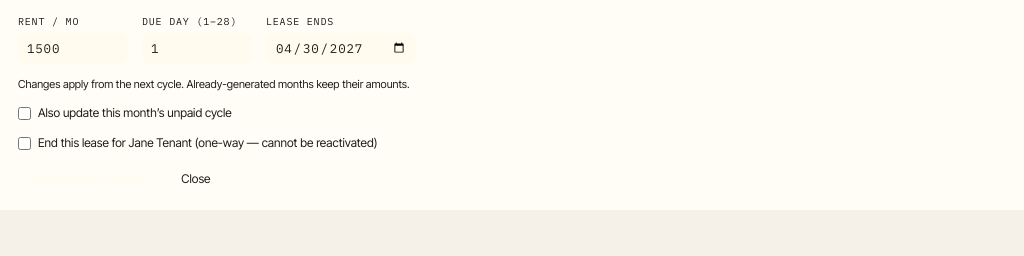
Test: LeaseTermsEditor › edit stage › should stay in edit and show an error when due day is out of range
This screenshot has width=1024, height=256.
Replace the text in the number field with test id "lease-due-day" with "40" at {"x": 197, "y": 48}, box left=142, top=33, right=252, bottom=64
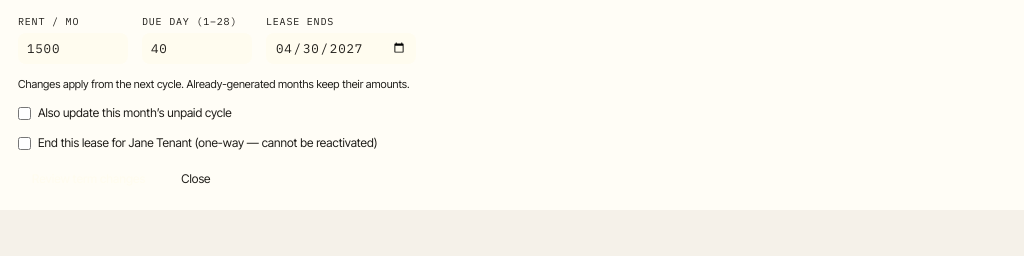
Submit the form with test id "lease-terms-editor"
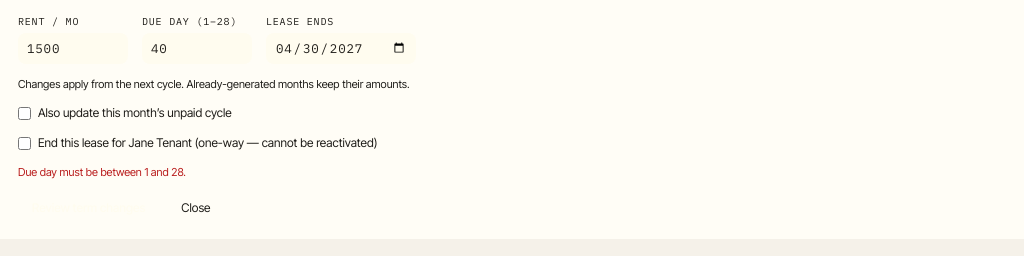
Check: the message with test id "lease-terms-notice" shows "between 1 and 28", box left=18, top=165, right=186, bottom=179
